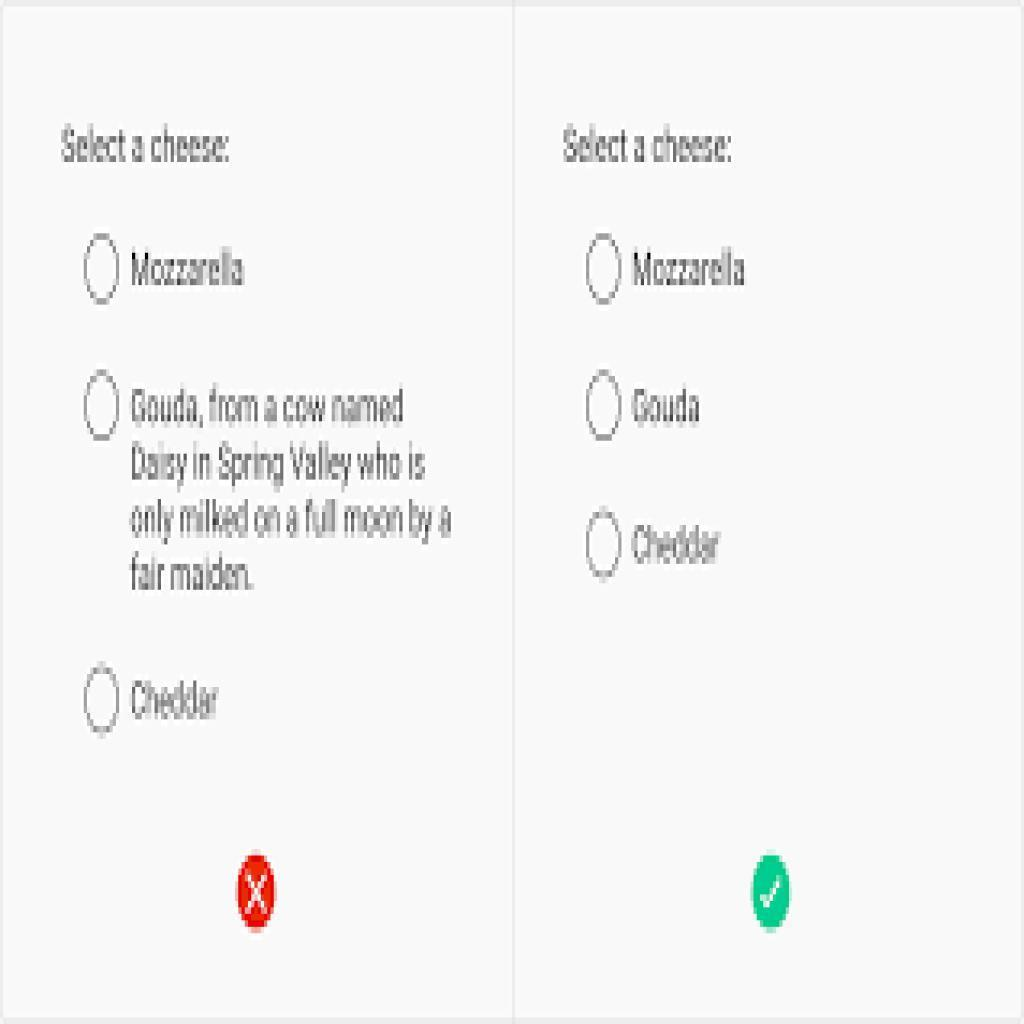label: (128, 245, 251, 293), (630, 244, 750, 290), (628, 517, 728, 571), (130, 672, 222, 728), (631, 381, 706, 431)
radio: (81, 368, 127, 445), (82, 232, 123, 311), (81, 664, 124, 739), (585, 510, 624, 585), (584, 370, 624, 443), (587, 232, 624, 308)
